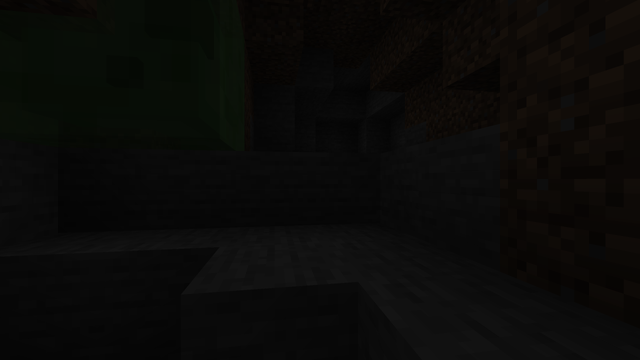slimes: (8, 4, 246, 153)
